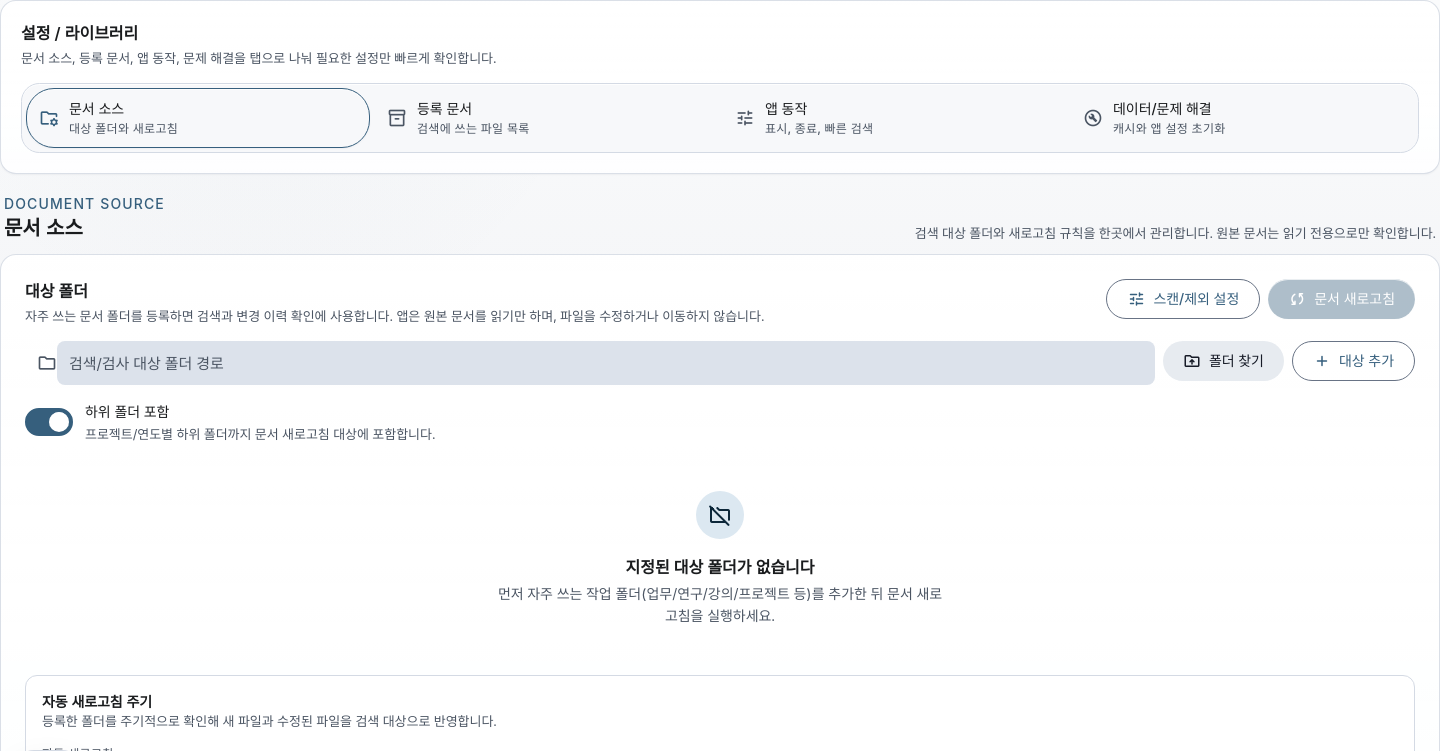
FileManager › initial load › separates settings into horizontal category tabs
expect the tab "등록 문서 검색에 쓰는 파일 목록" is shown: met, box left=374, top=88, right=718, bottom=148
expect the tab "데이터/문제 해결 캐시와 앱 설정 초기화" is shown: met, box left=1070, top=88, right=1414, bottom=148
Click the tab "앱 동작 표시, 종료, 빠른 검색": (786, 108) left=722, top=88, right=1066, bottom=148
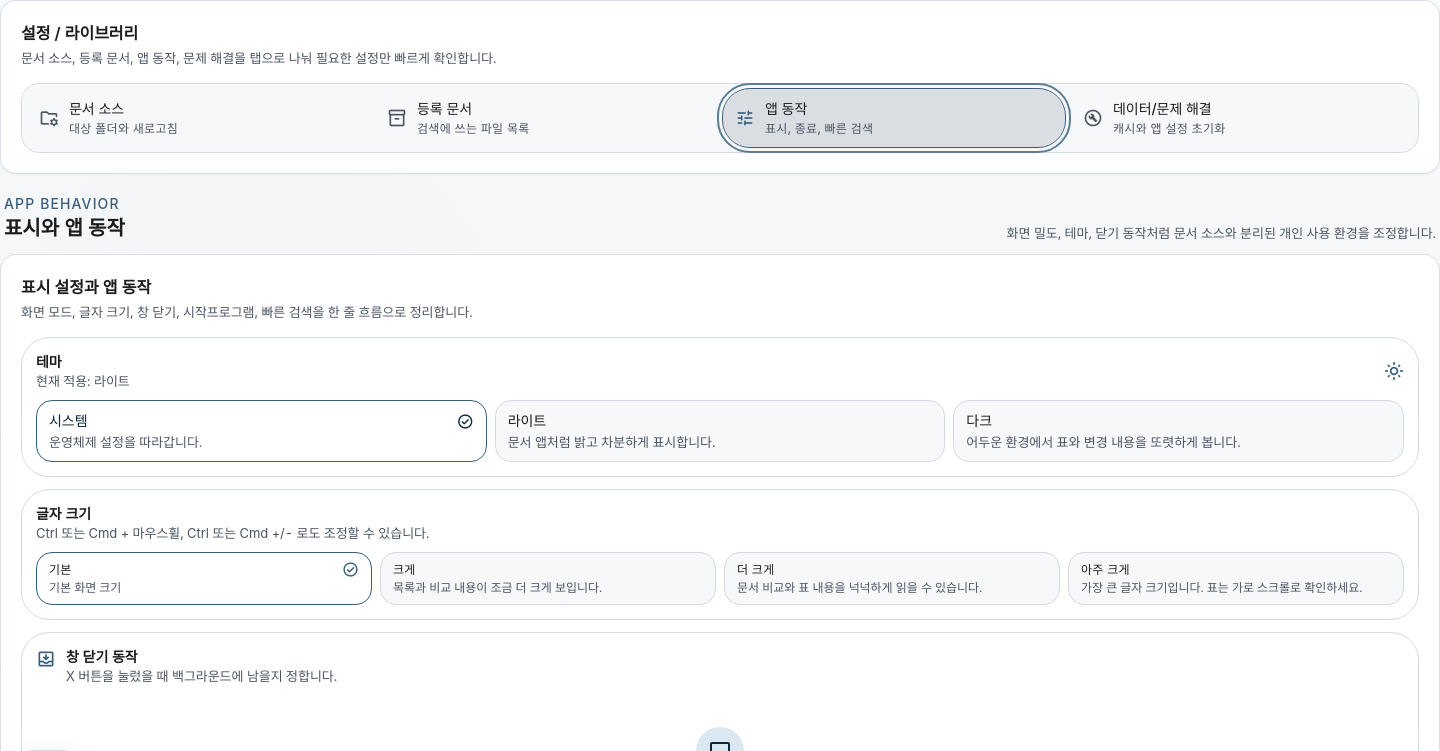
expect the heading "표시와 앱 동작" is shown: met, box left=4, top=214, right=125, bottom=242
